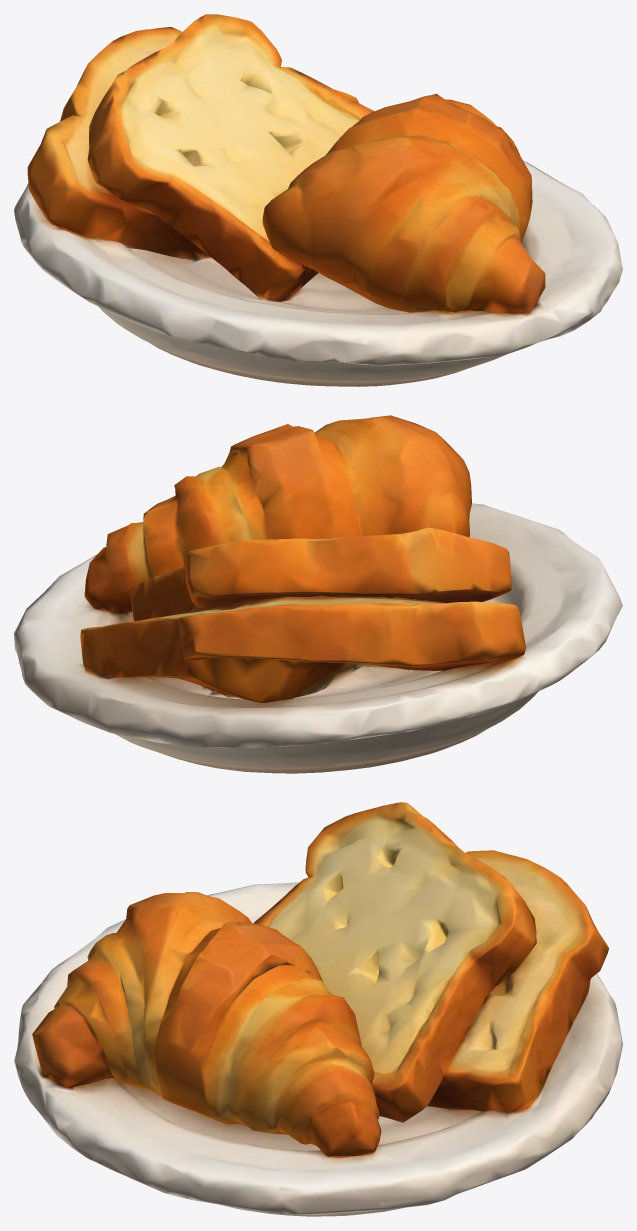
Rendered from 面包盘.glb.
The picture shows the model from 3 angles, top to bottom: view 1: azimuth 30°, elevation 25°; view 2: azimuth 150°, elevation 25°; view 3: azimuth 270°, elevation 25°; orthographic projection.
Parts seen in each view (by area): view 1: tripo_node_1b21abbb-dd18-4171-8edc-3e9202f54411; view 2: tripo_node_1b21abbb-dd18-4171-8edc-3e9202f54411; view 3: tripo_node_1b21abbb-dd18-4171-8edc-3e9202f54411.
Boxes of the visible parts, x1,y1,x2,y2 form: tripo_node_1b21abbb-dd18-4171-8edc-3e9202f54411: [14, 14, 622, 386]; tripo_node_1b21abbb-dd18-4171-8edc-3e9202f54411: [14, 415, 622, 773]; tripo_node_1b21abbb-dd18-4171-8edc-3e9202f54411: [14, 802, 622, 1216].
Bounding box in the file's own units: 0.9985 × 0.4536 × 1.
1 material, 1 textured.
